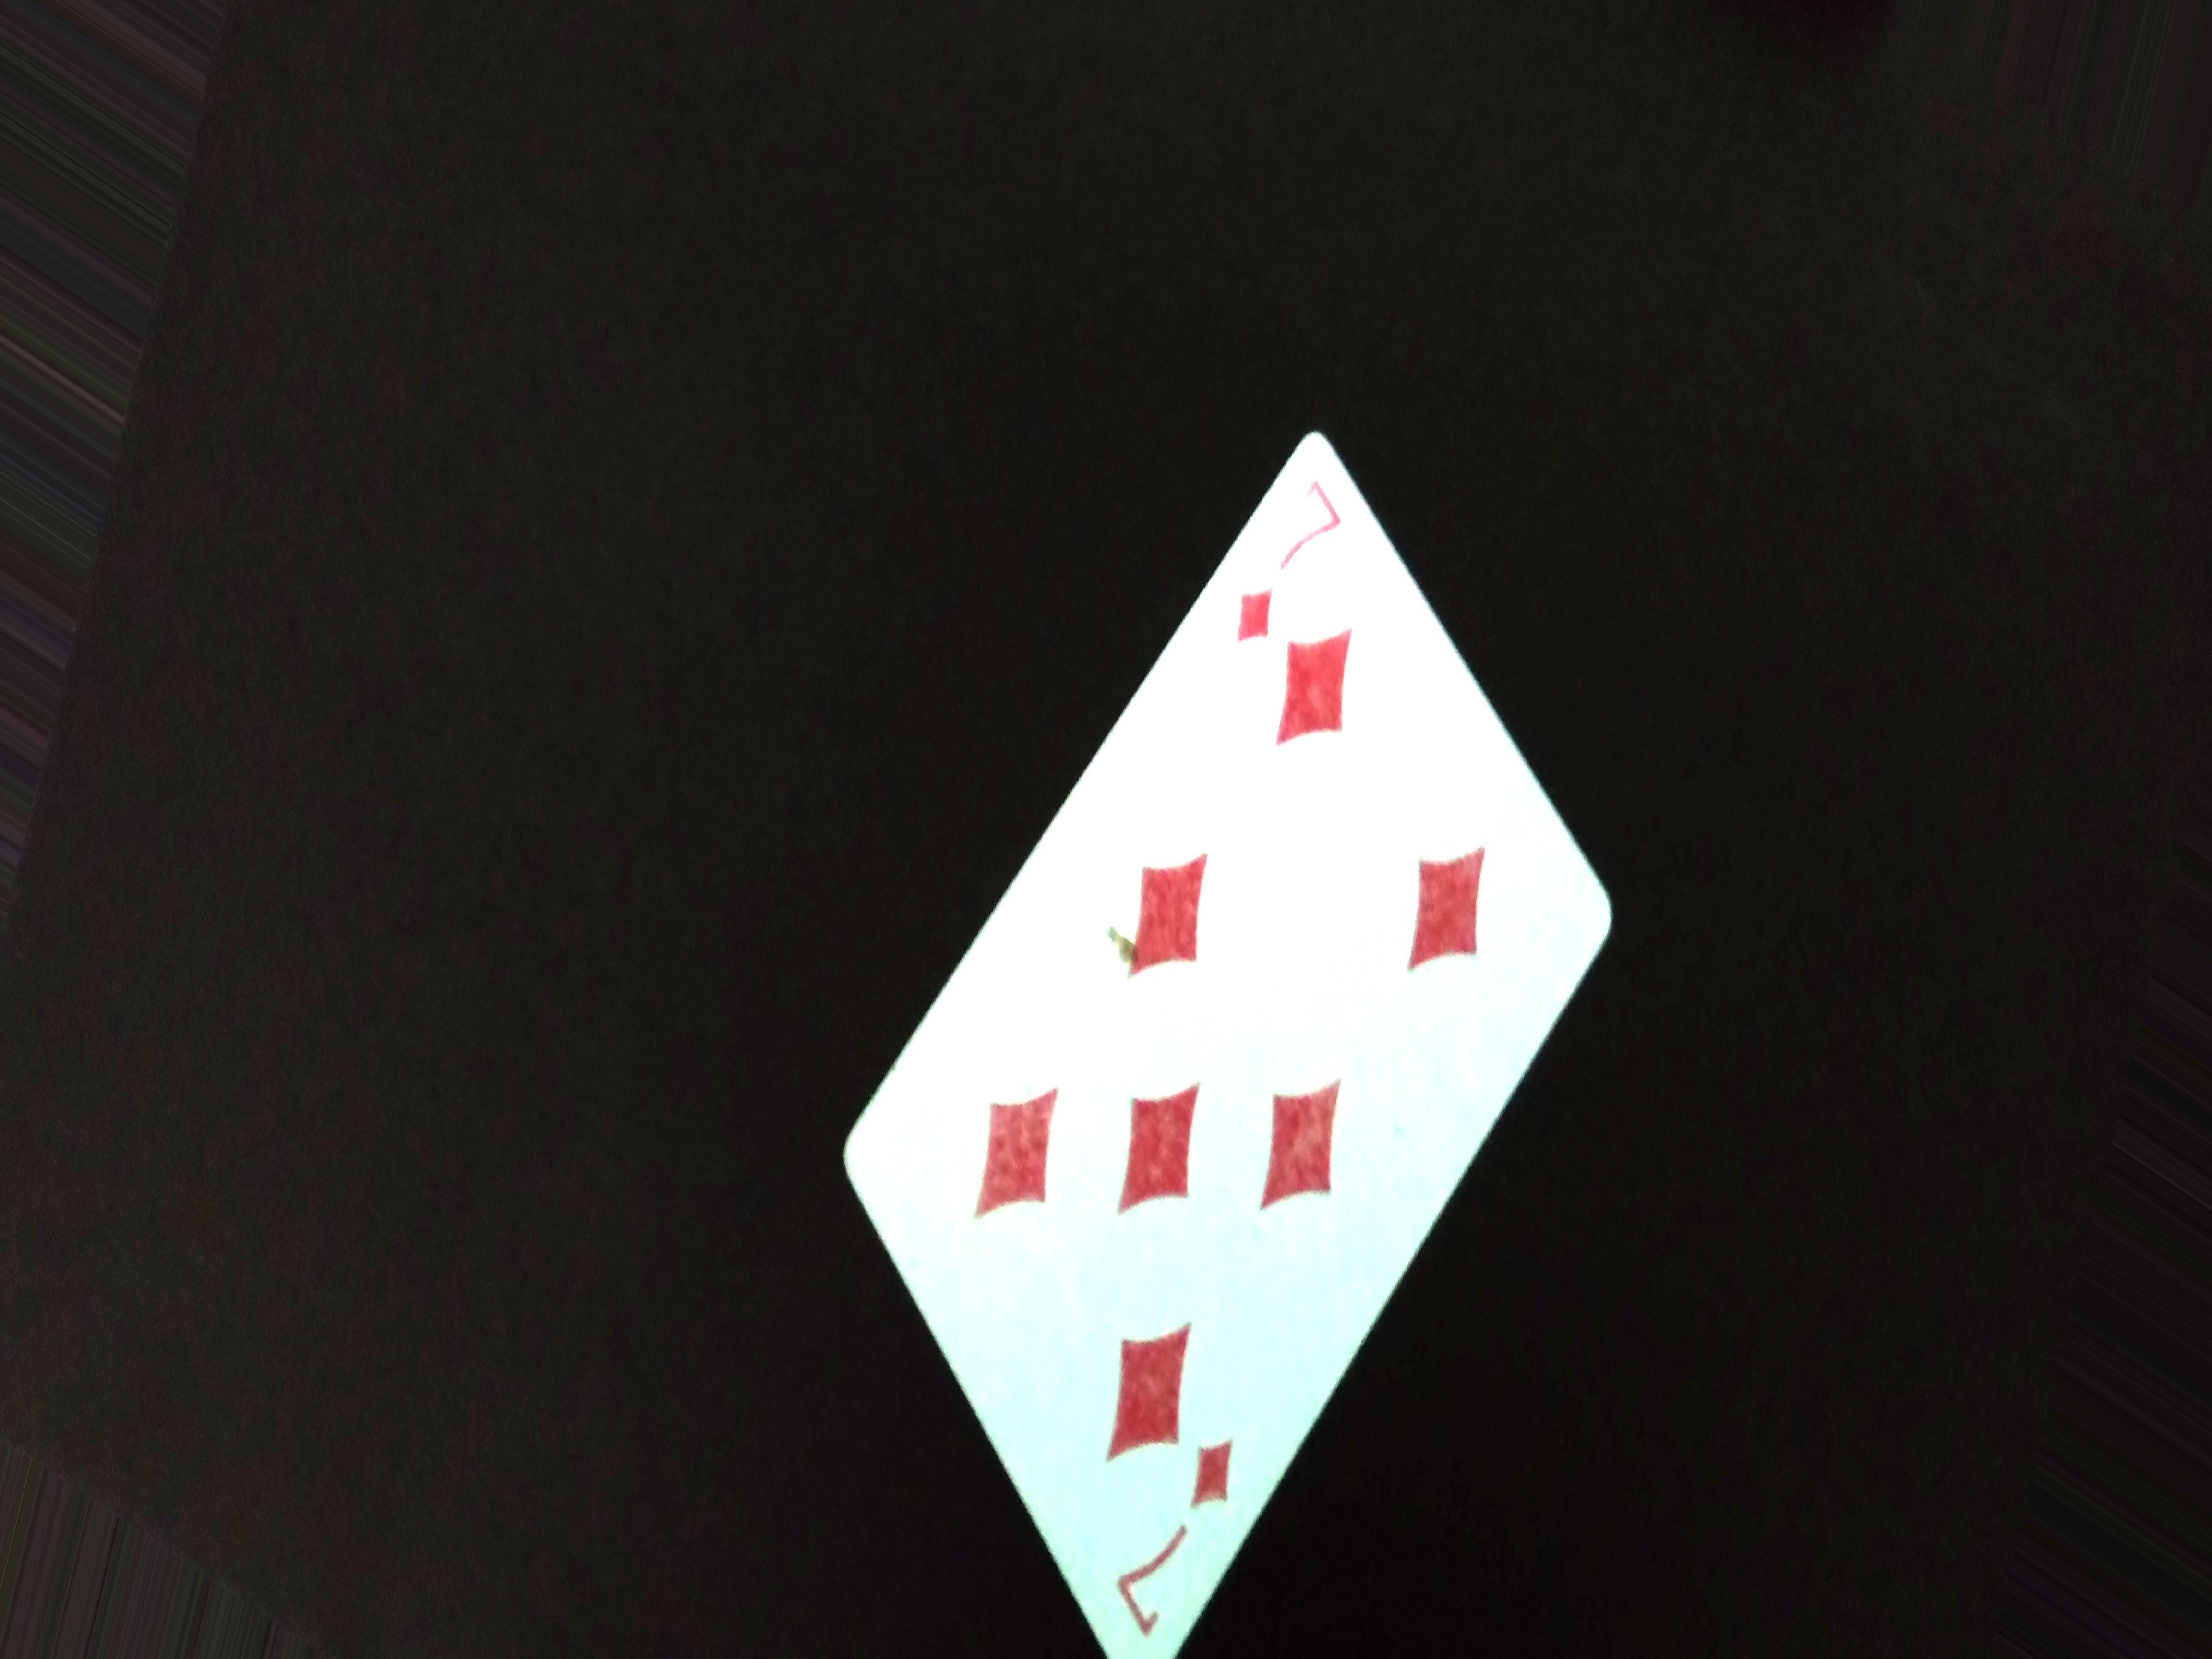7D: (1219, 483, 1357, 669)
